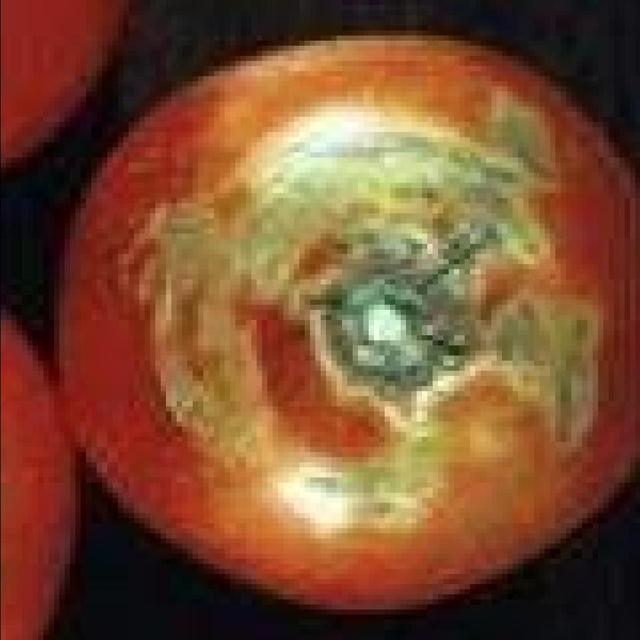Cracking Fruit: (62, 92, 368, 307)
